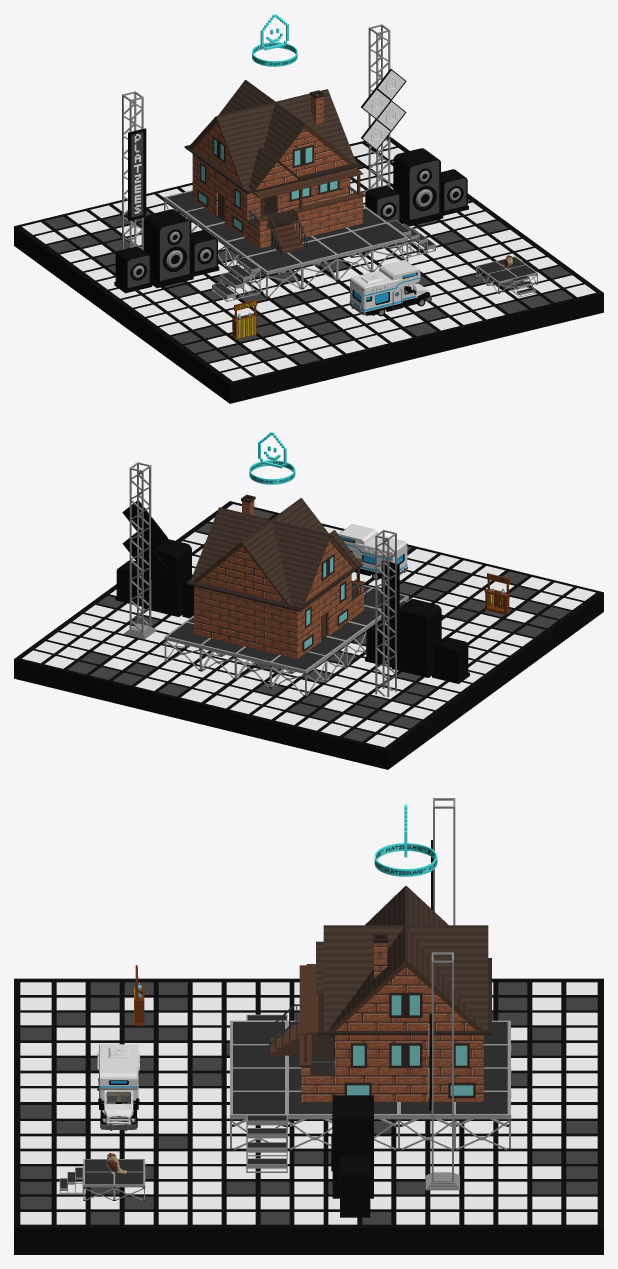
3 views of the same model, one above another, from view 1: azimuth 30°, elevation 25°; view 2: azimuth 150°, elevation 25°; view 3: azimuth 270°, elevation 25° (orthographic). The views are drawn at different scales.
Parts seen in each view (by area): view 1: Cube.008, Cube.469, VEHICLES_CAMPER, TYPE_PREMIUM, OBJRANDOM_LEMONADE_STAND; view 2: Cube.008, Cube.469, VEHICLES_CAMPER, TYPE_PREMIUM, OBJRANDOM_LEMONADE_STAND; view 3: Cube.008, Cube.469, VEHICLES_CAMPER, TYPE_PREMIUM.
Part boxes in pixels (x1=…): Cube.008: x1=14, y1=24, x2=603, y2=403; Cube.469: x1=184, y1=80, x2=365, y2=254; VEHICLES_CAMPER: x1=349, y1=260, x2=431, y2=316; TYPE_PREMIUM: x1=252, y1=14, x2=297, y2=66; OBJRANDOM_LEMONADE_STAND: x1=232, y1=299, x2=257, y2=339; Cube.008: x1=14, y1=462, x2=603, y2=769; Cube.469: x1=186, y1=494, x2=366, y2=658; VEHICLES_CAMPER: x1=338, y1=524, x2=407, y2=579; TYPE_PREMIUM: x1=249, y1=432, x2=295, y2=484; OBJRANDOM_LEMONADE_STAND: x1=484, y1=573, x2=510, y2=614; Cube.008: x1=14, y1=798, x2=603, y2=1254; Cube.469: x1=268, y1=886, x2=491, y2=1101; VEHICLES_CAMPER: x1=97, y1=1044, x2=139, y2=1130; TYPE_PREMIUM: x1=374, y1=804, x2=437, y2=876.
Size of the model in its own units: 4000 by 2489 by 4000.
45 materials, 3 textured.
